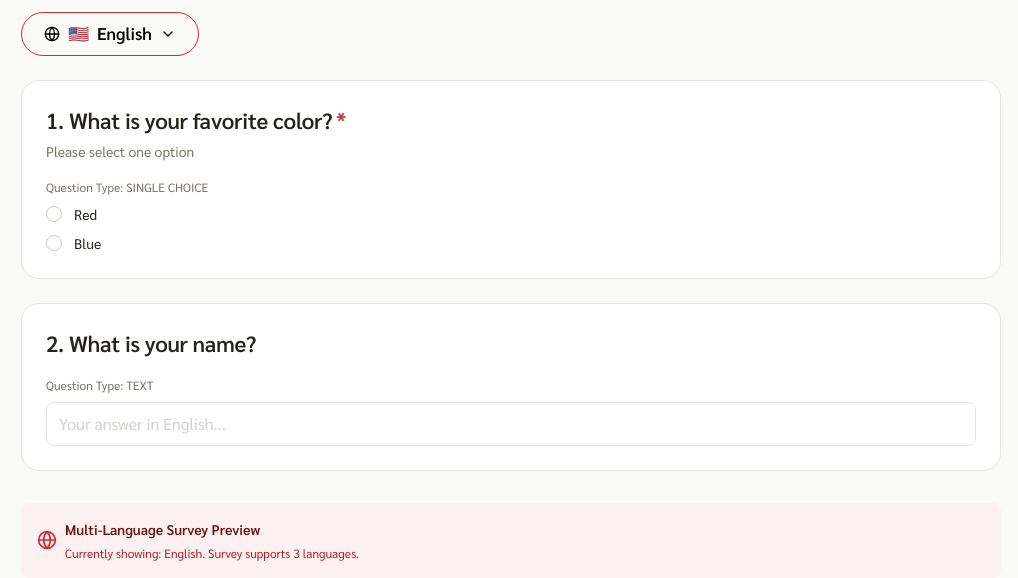
Scenario: MultiLanguageSurvey › Language Selection › should open language dropdown when selector clicked
What coordinates should you click on to do the following:
click the button
I would click on:
 (110, 34)
Its box is [21,12,199,56].
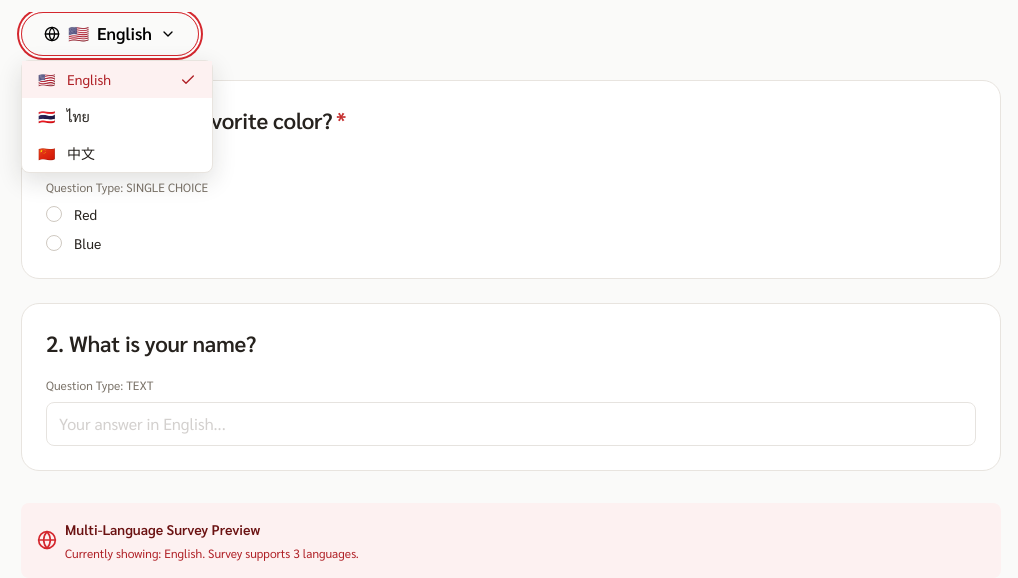
Now the button "🇹🇭 ไทย" is shown, box [22,98,212,135]
Now the button "🇨🇳 中文" is shown, box [22,135,212,172]
